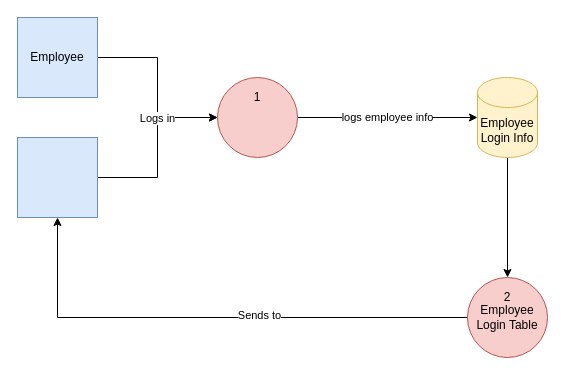
The diagram is 565 pixels wide and 375 high, and some of its shapes have lost their labels. Here are the shapes that lost their labels. From the top down, the box of each, then its label:
(216, 76, 298, 158): Employee Login
(16, 136, 98, 218): Admin
